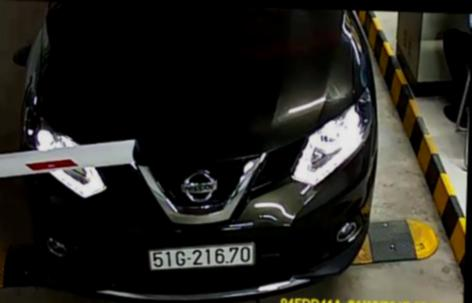License_Plate: (142, 238, 261, 277)
